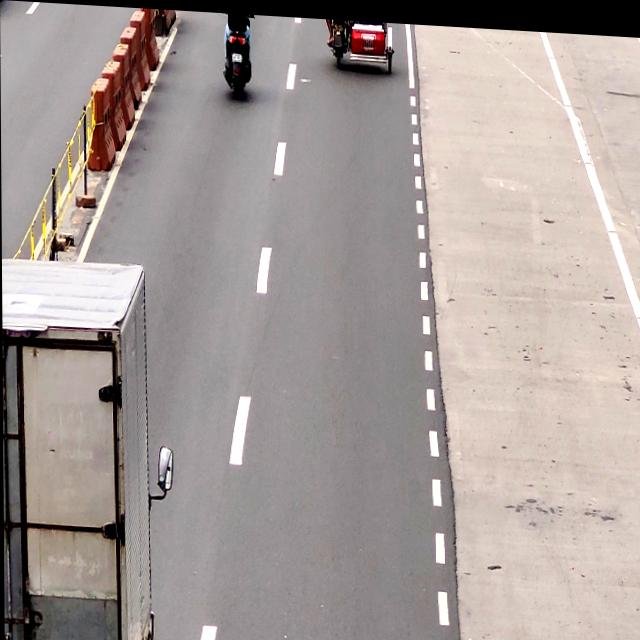Motorcycle: (325, 15, 395, 71), (222, 10, 254, 97)
Truck: (2, 249, 148, 640)
